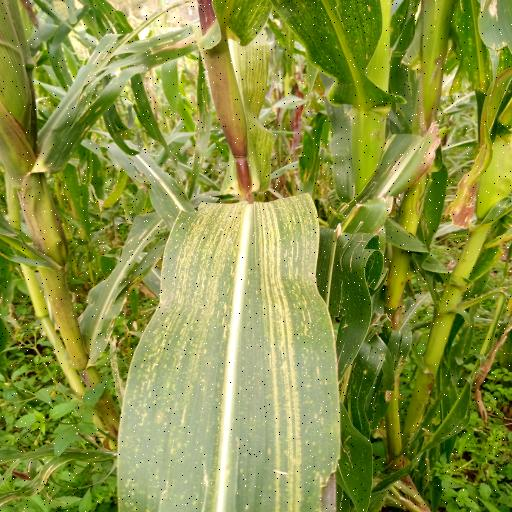Corn_Streak: (114, 191, 337, 512)
